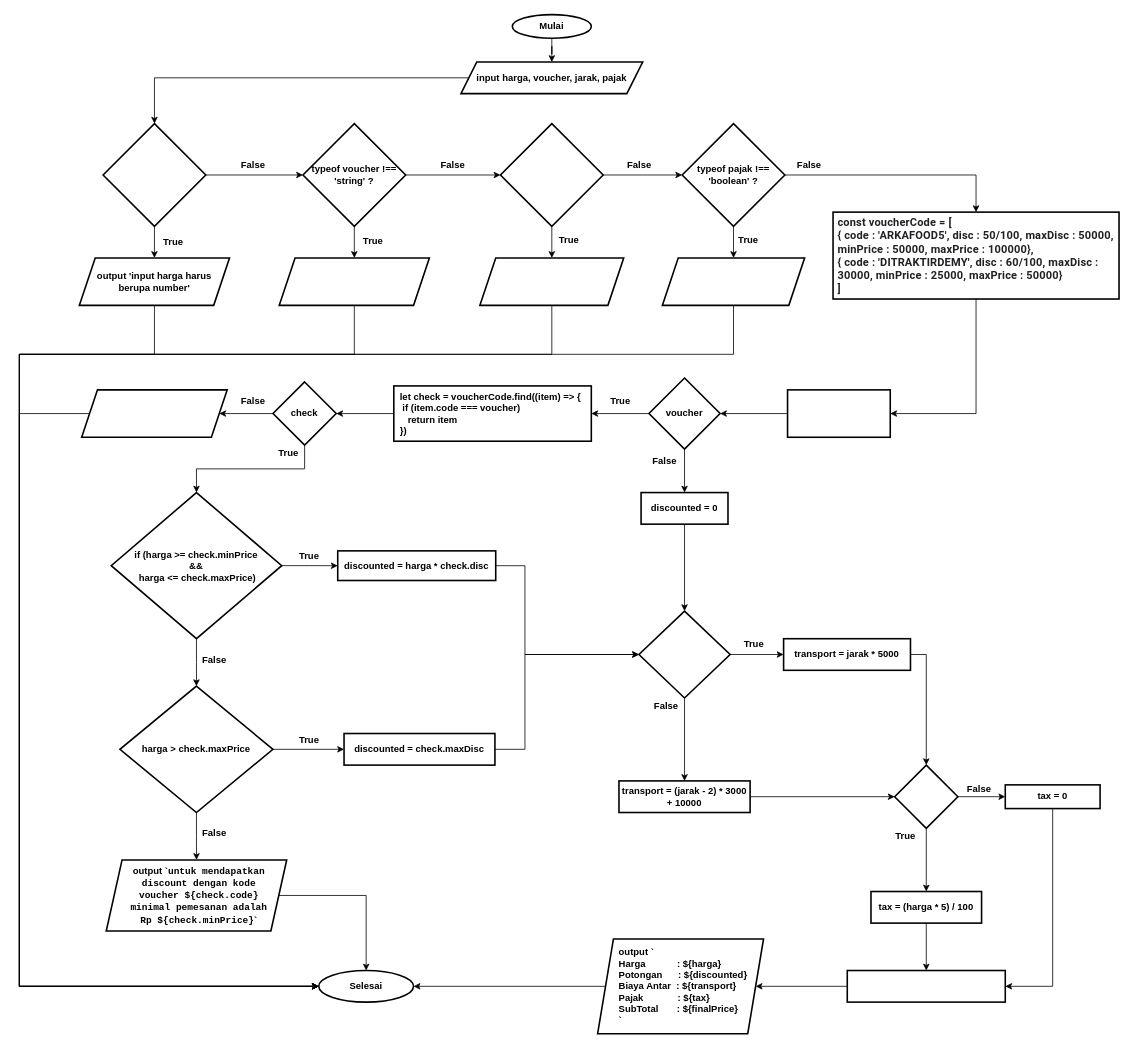
Image size: 1134x1048. Some labels were removed from this diagram. Each missing label, with the centre of its shape:
finalPrice = harga - discounted + transport + tax: (926,986)
if (jarak >= 0 && jarak <= 2): (684,654)
let discount let transport let tax let finalPrice: (838,413)
output 'input jarak harus berupa number': (551,281)
output 'input pajak harus berupa boolean': (733,281)
output 'input voucher harus berupa string': (354,281)
Output 'kode voucher yang anda masukkan salah': (154,413)
pajak: (925,796)
typeof harga !== 'number' ?: (154,174)
typeof jarak !== 'number' ?: (551,174)
